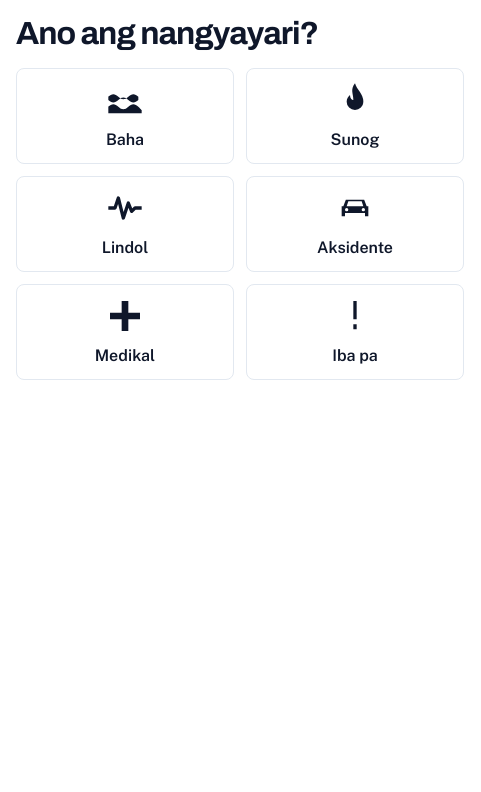
Test: ReportPage › asks for confirmation instead of submitting a wildly imprecise fix
Click the button "Baha".
click(125, 116)  # box [16, 68, 234, 164]
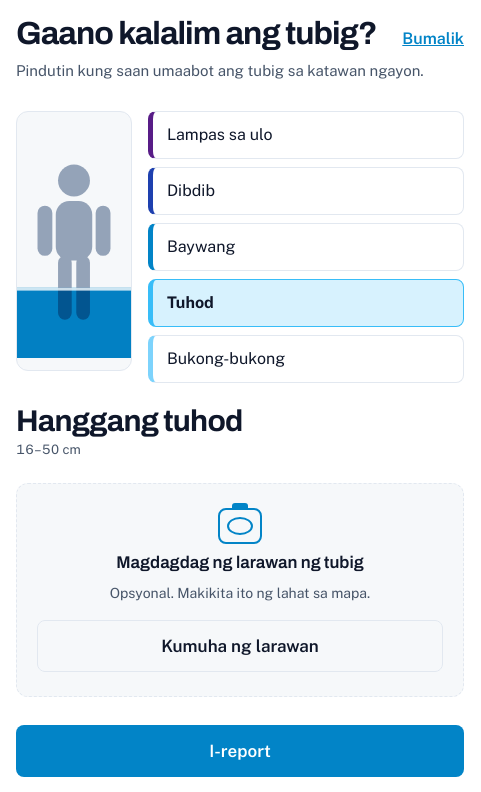
Click the button "I-report".
click(240, 751)  # box [16, 725, 464, 777]
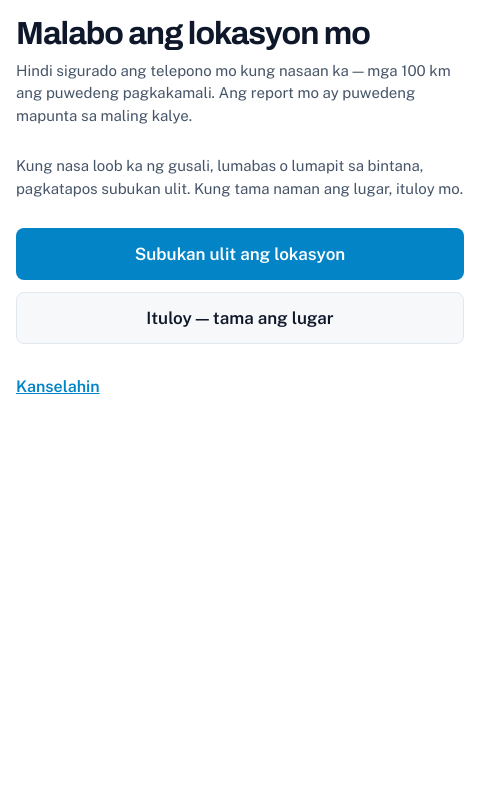
Expected: the heading "Malabo ang lokasyon mo" is shown, [16, 16, 370, 51]
Expected: the text "100 km" is shown, [16, 62, 451, 124]
